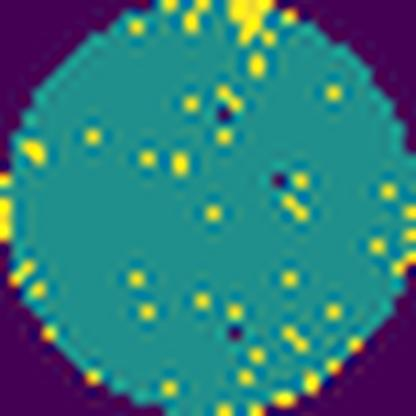Loc: (232, 0, 269, 46)
